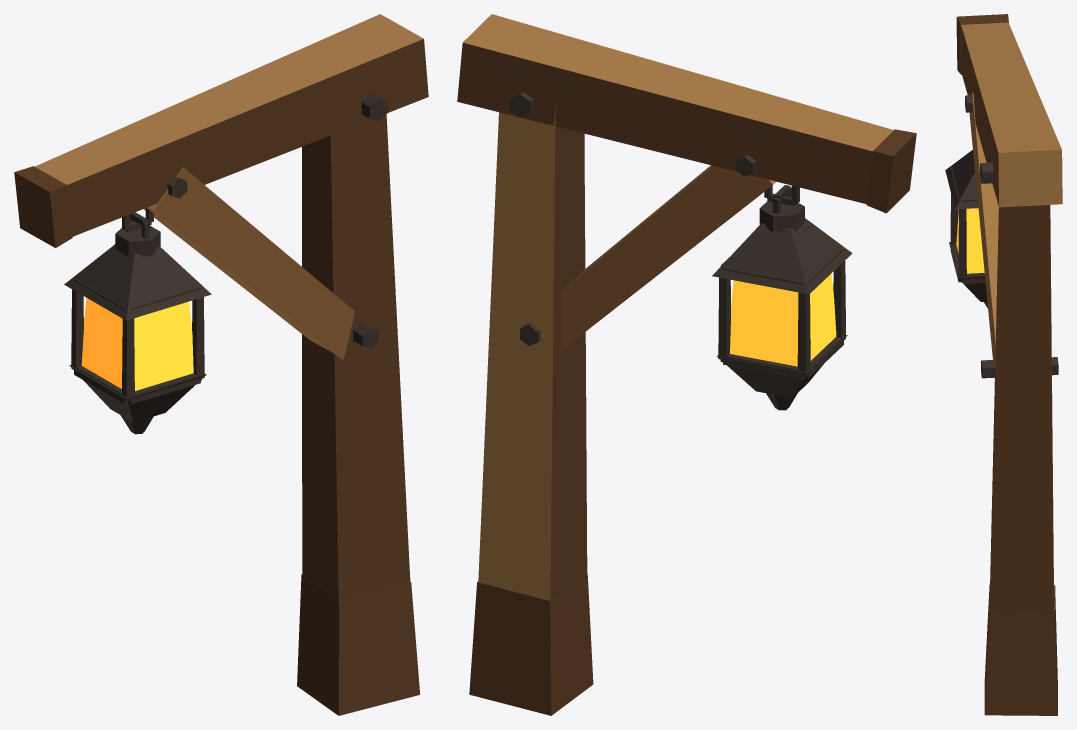
Rendered from lamppost_grotto.glb.
3 views of the same model, side by side, from view 1: azimuth 30°, elevation 25°; view 2: azimuth 150°, elevation 25°; view 3: azimuth 270°, elevation 25° (orthographic). The views are drawn at different scales.
Visible parts, largest first — view 1: LP_Main_Post, LP_Crossarm, LP_Weathered_Foot, LP_Diagonal_Brace, LP_Lantern_Glass, LP_Lantern_Roof, LP_Crossarm_End, LP_Lantern_Base, LP_Lantern_Top_Collar, LP_Cage_Rib_03, LP_Cage_Rib_04, LP_Cage_Rib_02 (+1 smaller); view 2: LP_Main_Post, LP_Crossarm, LP_Weathered_Foot, LP_Diagonal_Brace, LP_Lantern_Glass, LP_Lantern_Roof, LP_Crossarm_End, LP_Lantern_Base, LP_Lantern_Top_Collar, LP_Cage_Rib_02, LP_Cage_Rib_01, LP_Cage_Bottom_01 (+1 smaller); view 3: LP_Main_Post, LP_Crossarm, LP_Weathered_Foot, LP_Diagonal_Brace, LP_Lantern_Roof, LP_Lantern_Glass, LP_Crossarm_End, LP_Cage_Rib_04, LP_Lantern_Base, LP_Peg_Brace_Low, LP_Cage_Rib_03, LP_Peg_Top.
Boxes of the visible parts, x1,y1,x2,y2 form: LP_Main_Post: [302, 114, 410, 600]; LP_Crossarm: [35, 14, 428, 236]; LP_Weathered_Foot: [297, 574, 420, 715]; LP_Diagonal_Brace: [144, 167, 354, 360]; LP_Lantern_Glass: [81, 298, 193, 390]; LP_Lantern_Roof: [64, 244, 211, 320]; LP_Crossarm_End: [14, 166, 72, 247]; LP_Lantern_Base: [69, 365, 206, 422]; LP_Lantern_Top_Collar: [115, 226, 160, 257]; LP_Cage_Rib_03: [122, 318, 134, 401]; LP_Cage_Rib_04: [192, 297, 204, 378]; LP_Cage_Rib_02: [71, 289, 83, 371]; LP_Main_Post: [478, 106, 587, 600]; LP_Crossarm: [457, 14, 893, 203]; LP_Weathered_Foot: [469, 573, 593, 715]; LP_Diagonal_Brace: [561, 165, 776, 350]; LP_Lantern_Glass: [730, 273, 836, 366]; LP_Lantern_Roof: [712, 218, 852, 294]; LP_Crossarm_End: [866, 129, 916, 213]; LP_Lantern_Base: [717, 335, 847, 397]; LP_Lantern_Top_Collar: [759, 201, 804, 232]; LP_Cage_Rib_02: [797, 292, 810, 375]; LP_Cage_Rib_01: [718, 277, 730, 360]; LP_Cage_Bottom_01: [723, 354, 803, 379]; LP_Main_Post: [990, 205, 1053, 614]; LP_Crossarm: [961, 22, 1062, 207]; LP_Weathered_Foot: [984, 585, 1057, 715]; LP_Diagonal_Brace: [969, 92, 998, 379]; LP_Lantern_Roof: [945, 150, 978, 209]; LP_Lantern_Glass: [956, 208, 984, 273]; LP_Crossarm_End: [956, 14, 1008, 74]; LP_Cage_Rib_04: [958, 208, 966, 280]; LP_Lantern_Base: [949, 242, 987, 301]; LP_Peg_Brace_Low: [981, 357, 1058, 378]; LP_Cage_Rib_03: [950, 194, 958, 245]; LP_Peg_Top: [980, 162, 993, 183].
Size of the model in its own units: 2.71 by 4.12 by 0.7692.
